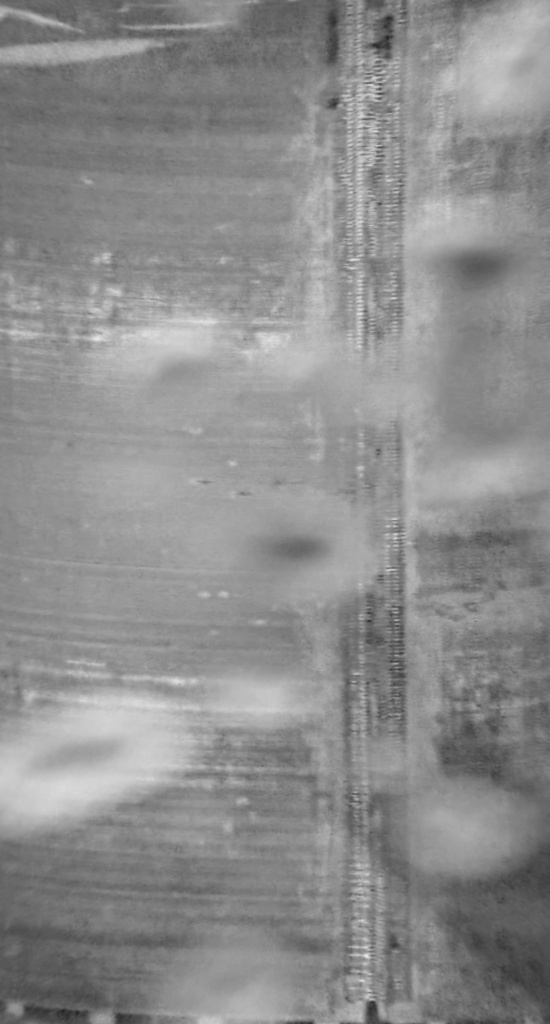splice: (330, 1, 427, 1023)
